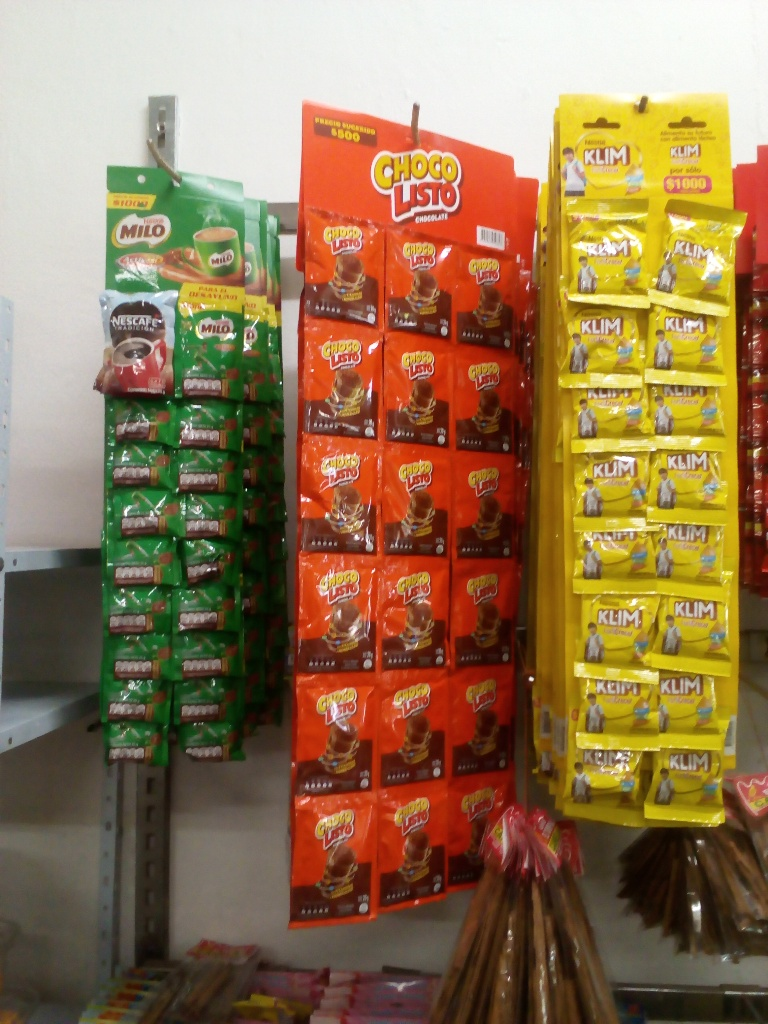COL0170103SOB02000: (303, 206, 384, 327)
